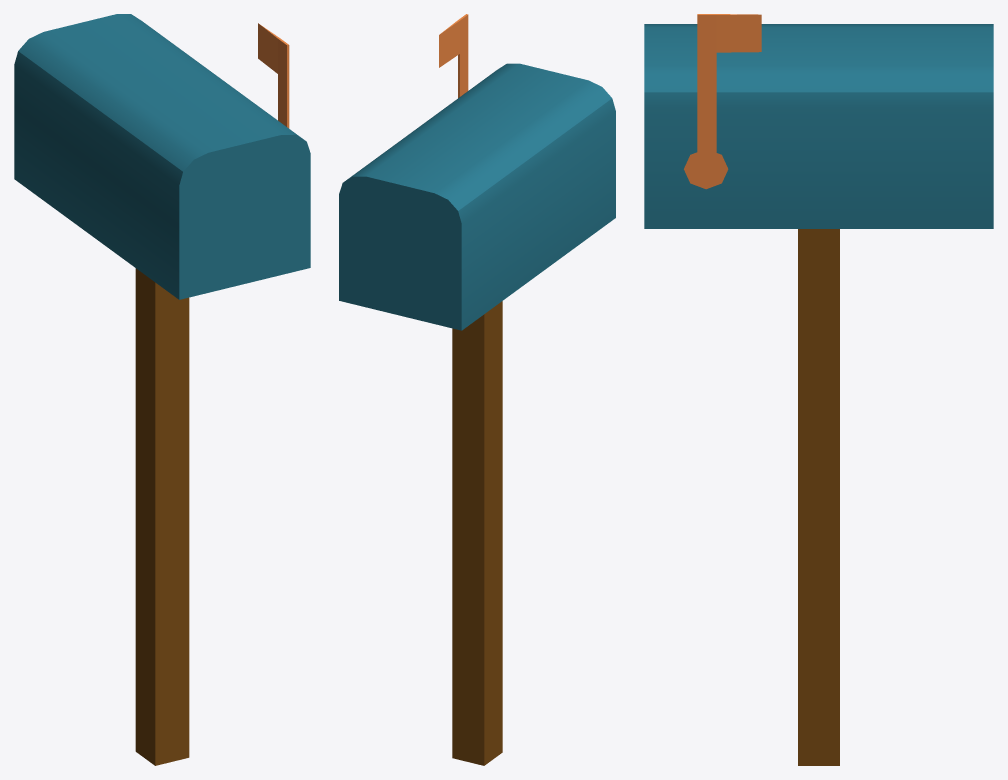
File: mailbox_02.fbx
3 renders of one model, left to right at view 1: azimuth 30°, elevation 25°; view 2: azimuth 150°, elevation 25°; view 3: azimuth 270°, elevation 25°, orthographic. The views are drawn at different scales.
Parts seen in each view (by area): view 1: mailbox_02; view 2: mailbox_02; view 3: mailbox_02.
Boxes of the visible parts, box(x1,y1,x2,y2) form: mailbox_02: box(14, 14, 310, 765); mailbox_02: box(339, 14, 615, 765); mailbox_02: box(644, 14, 993, 765).
Size of the model in its own units: 0.2799 by 1.46 by 0.5924.
